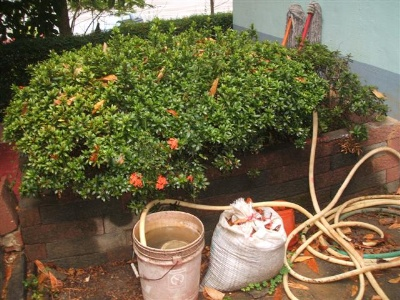bucket: (132, 210, 205, 300)
plastic_bag: (206, 196, 289, 292)
